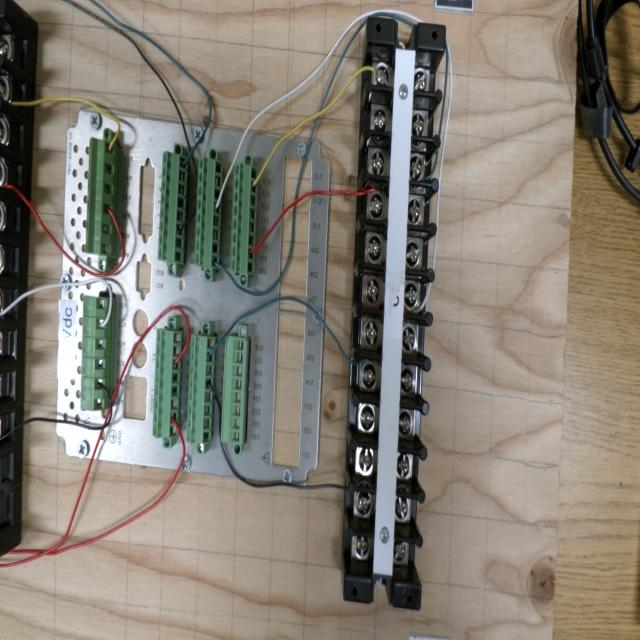Phillips_Block: (344, 17, 445, 610)
Terminal_1: (86, 137, 117, 257), (81, 296, 109, 411)
Terminal_2: (157, 151, 189, 265), (194, 156, 224, 269), (186, 334, 216, 445), (152, 329, 182, 439), (230, 162, 258, 275)
